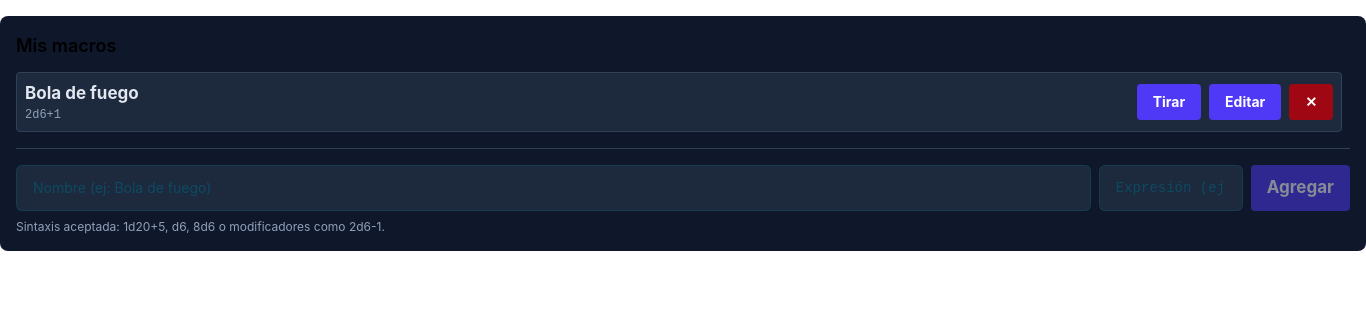
Scenario: MacroManager failure feedback › keeps invalid add input and shows actionable inline feedback before save
The image size is (1366, 336).
Type "Ataque" into the field named "Nombre del nuevo macro" at {"x": 553, "y": 188}, box [16,164,1091,210]
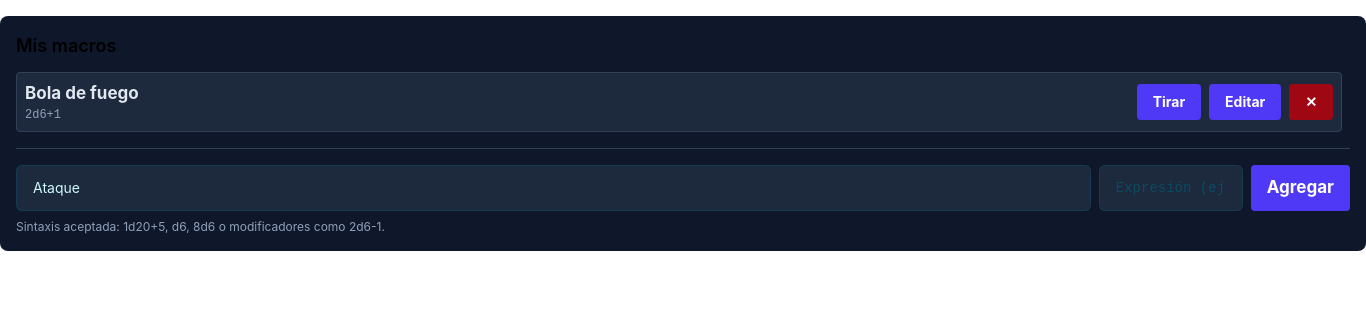
Type "2d6+" into the field named "Expresión del nuevo macro" at {"x": 1171, "y": 188}, box [1099,164,1243,210]
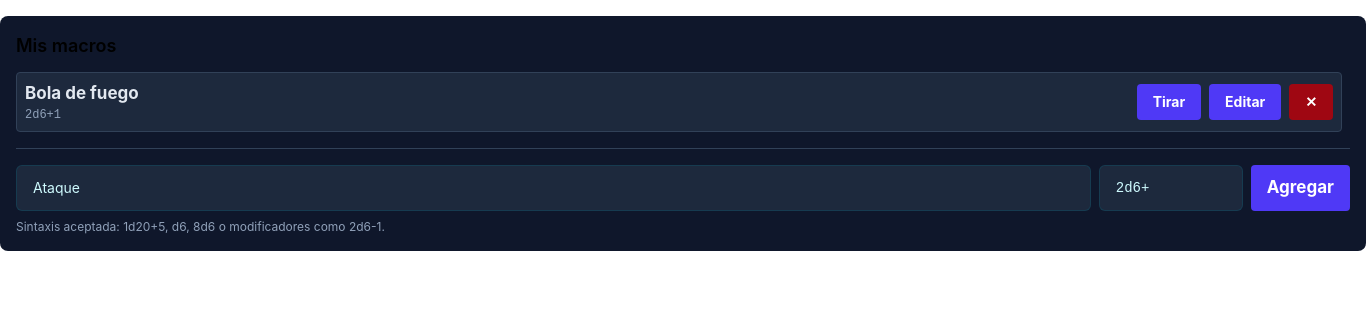
Click the button "Agregar" at {"x": 1300, "y": 188}, box [1251,164,1350,210]
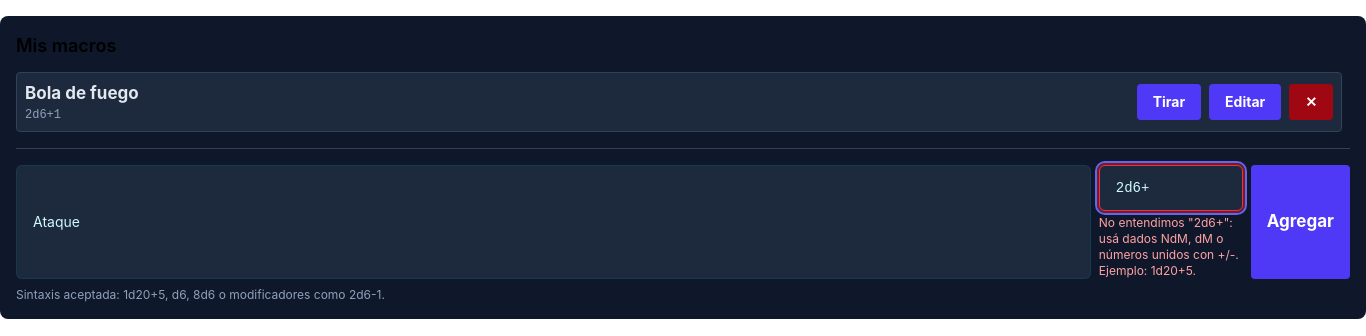
Result: the message shows "No entendimos" at [1099,214,1239,278]
